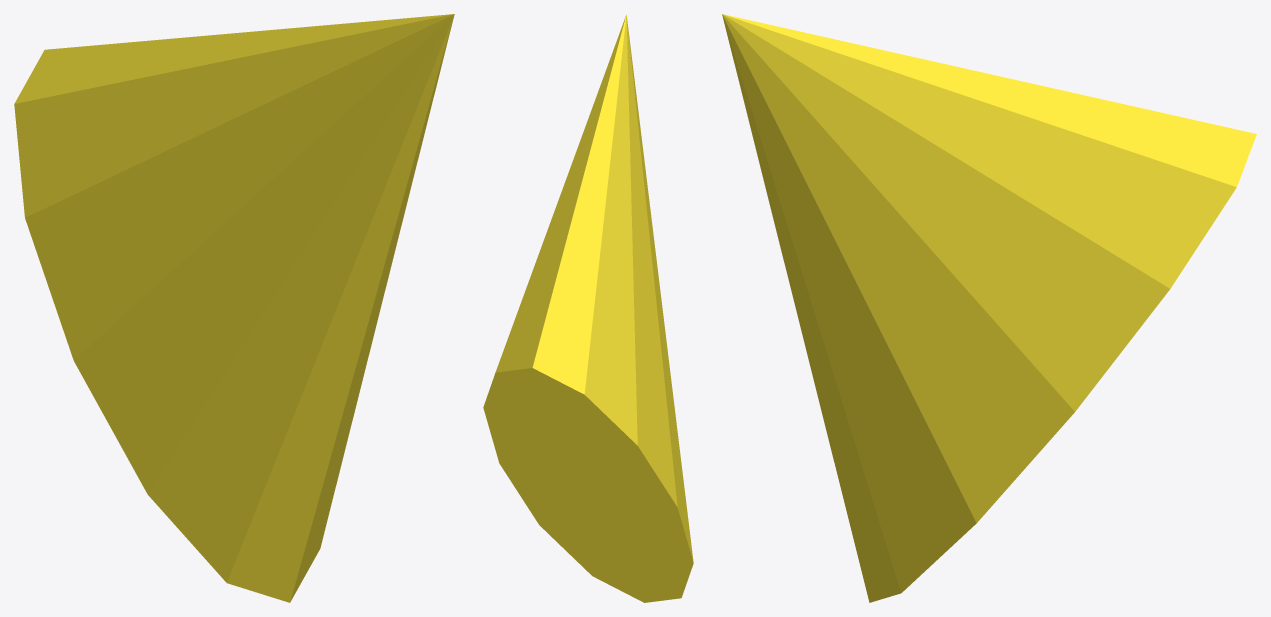
File: n5_group876389930_lev5.001.glb
3 views of the same model, side by side, from view 1: azimuth 30°, elevation 25°; view 2: azimuth 150°, elevation 25°; view 3: azimuth 270°, elevation 25° (orthographic). The views are drawn at different scales.
Visible parts, largest first — view 1: n5_group876389930_lev5.001; view 2: n5_group876389930_lev5.001; view 3: n5_group876389930_lev5.001.
Boxes of the visible parts, bbox=[...] form: n5_group876389930_lev5.001: bbox=[14, 14, 454, 602]; n5_group876389930_lev5.001: bbox=[483, 14, 693, 602]; n5_group876389930_lev5.001: bbox=[722, 14, 1256, 602].
Size of the model in its own units: 0.4067 by 1.09 by 0.8285.
